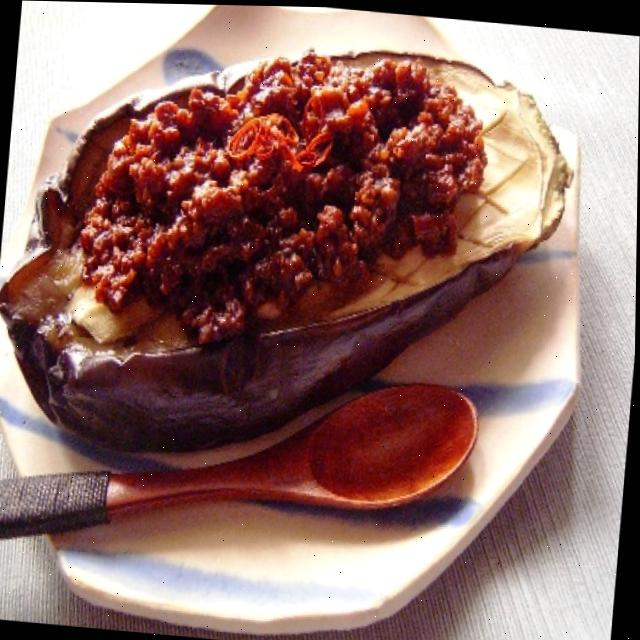鸡蛋料理: (0, 9, 613, 502)
